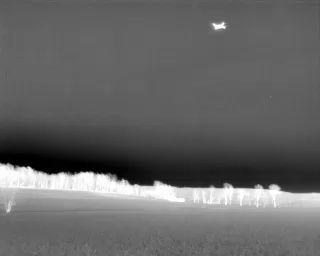DRONE: (208, 17, 231, 35)
